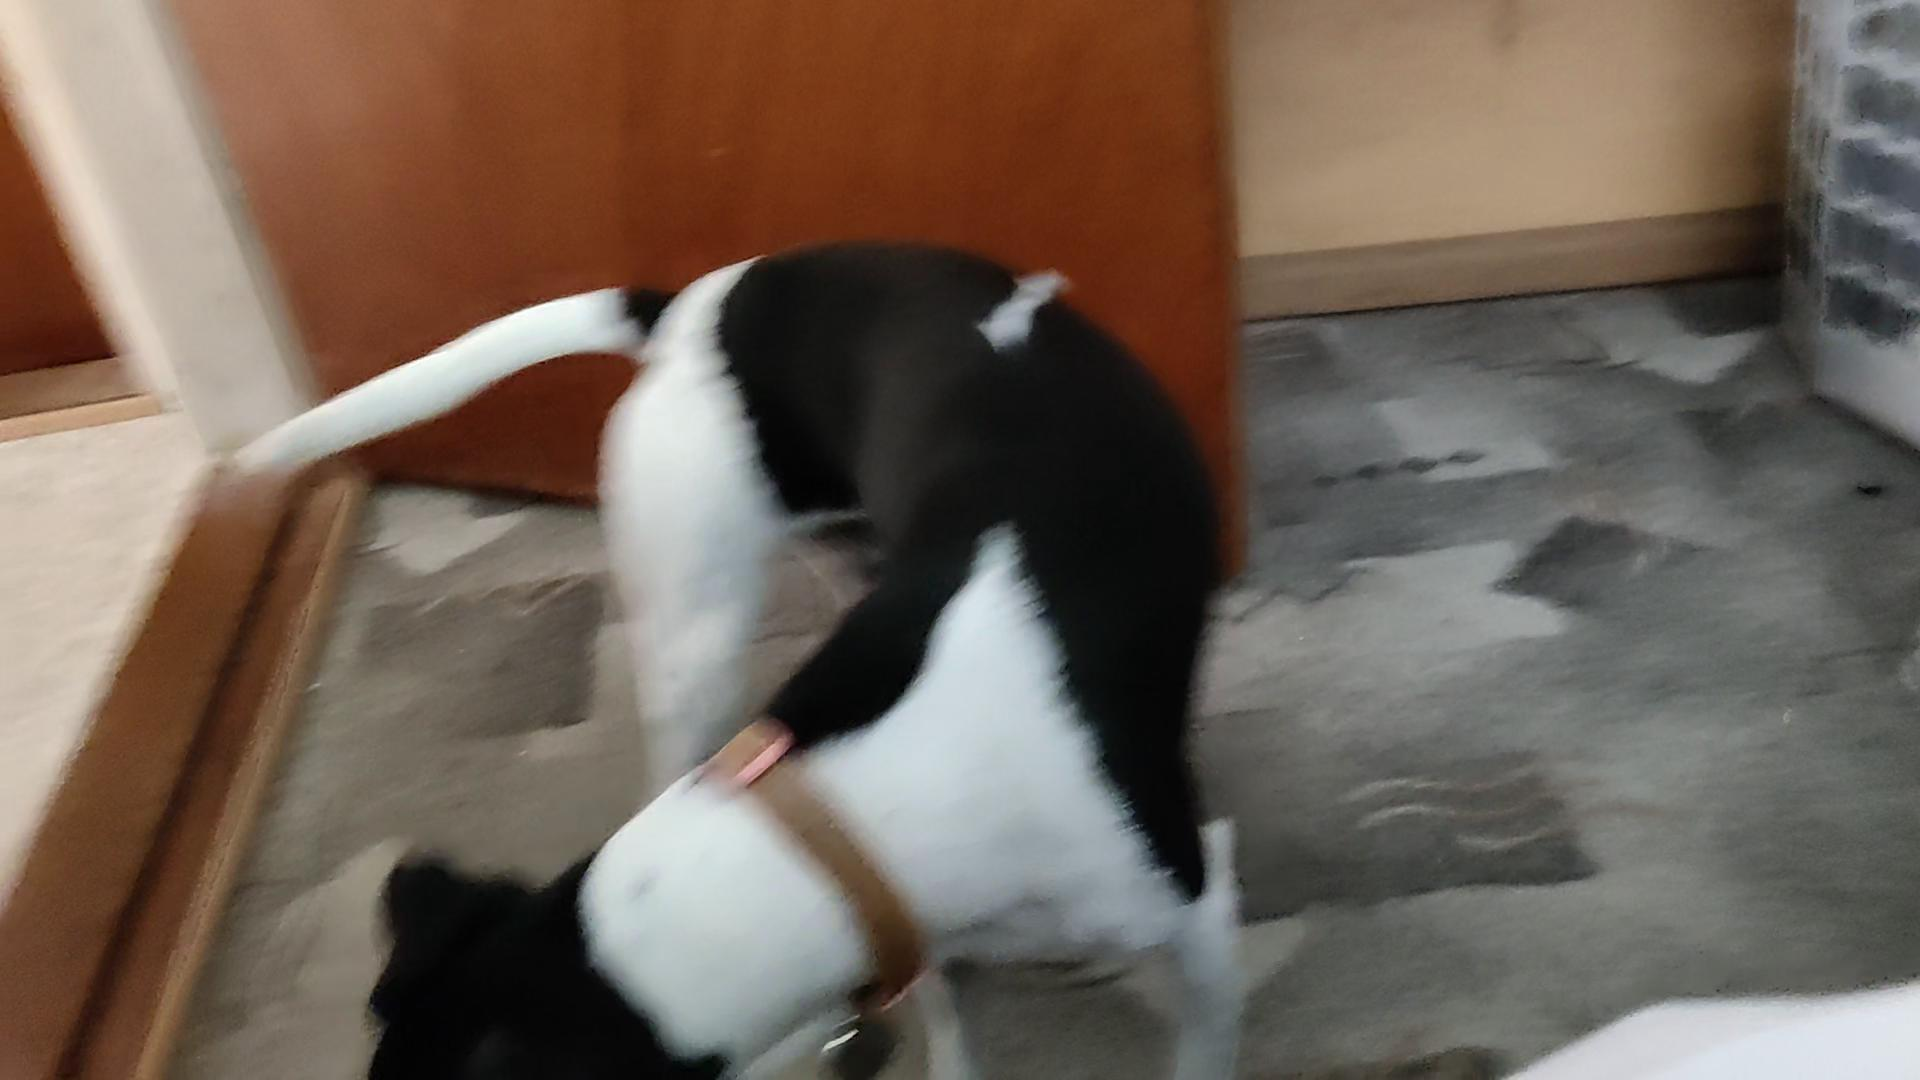Dog: (200, 227, 1288, 1079)
